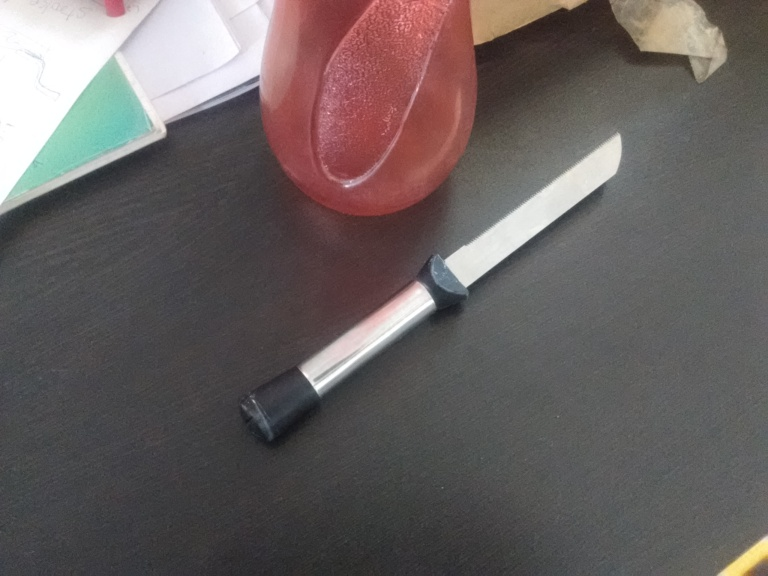knife: (233, 133, 626, 451)
